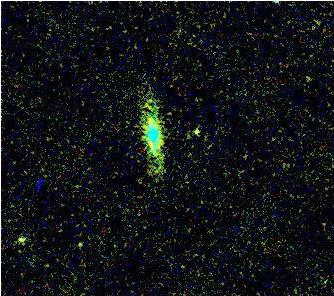star: (9, 223, 39, 253)
